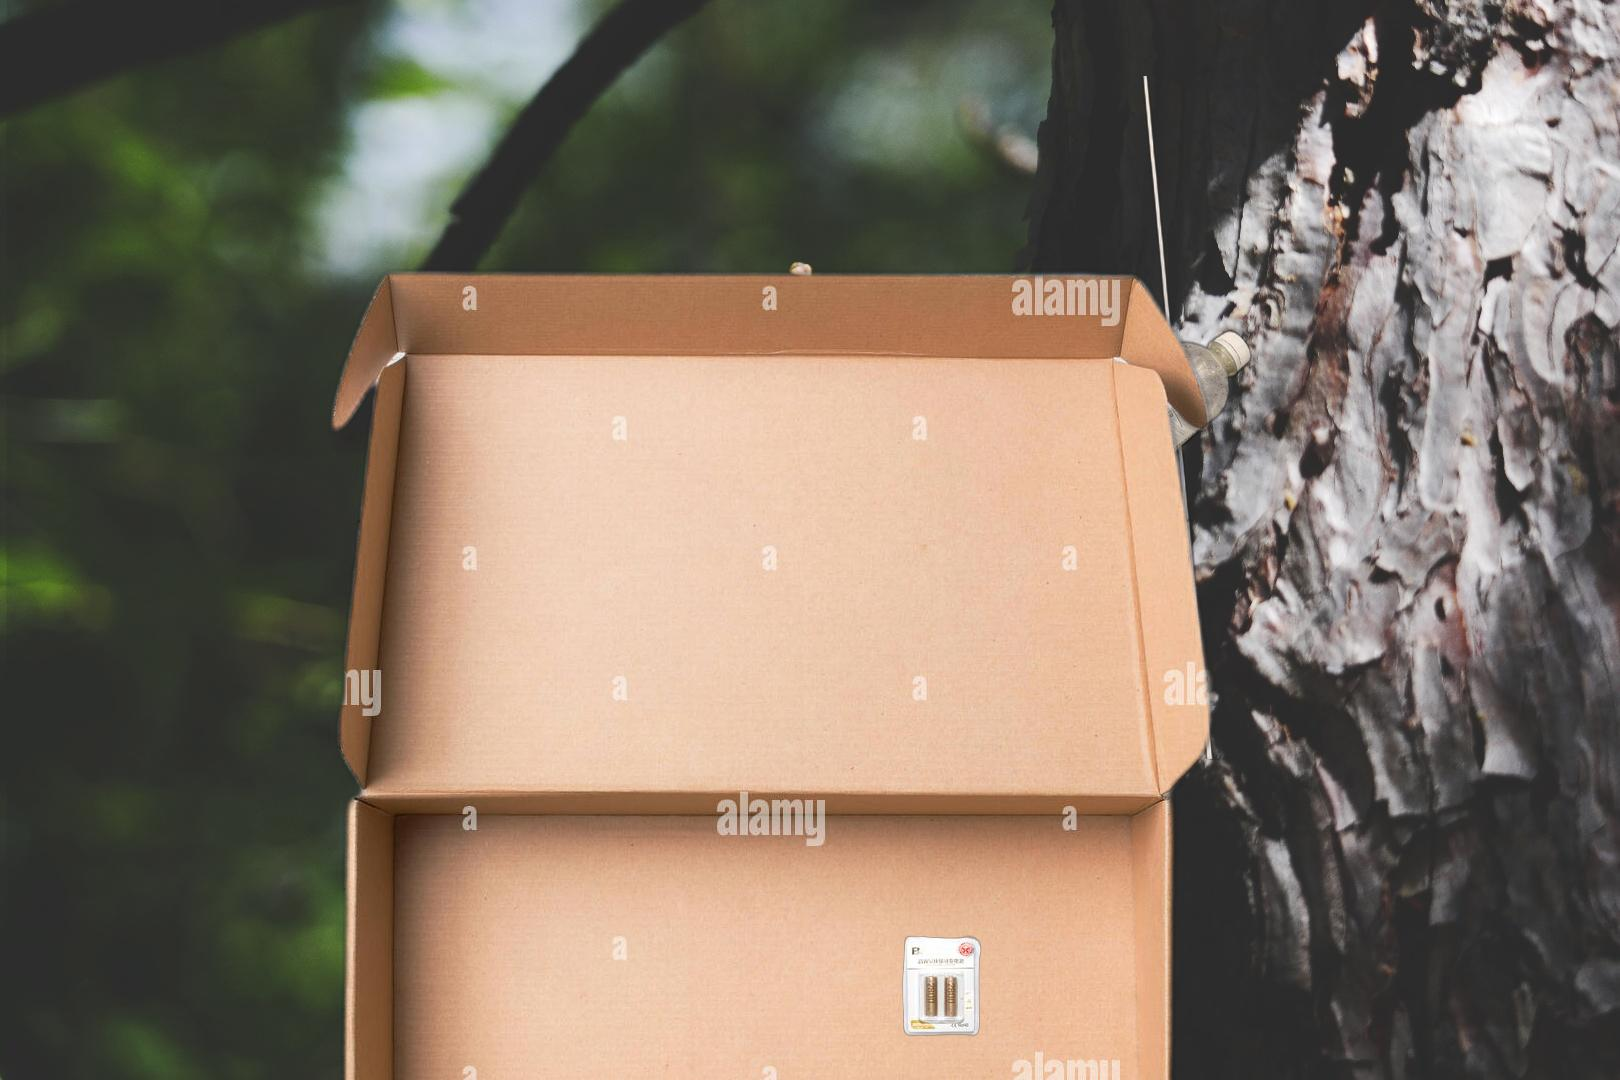battery: (900, 933, 984, 1039)
plastic-bottles: (1000, 76, 1256, 759)
trashbox-cardboard: (319, 258, 1223, 1080)
